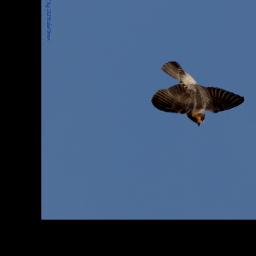Swallow: (149, 60, 246, 129)
